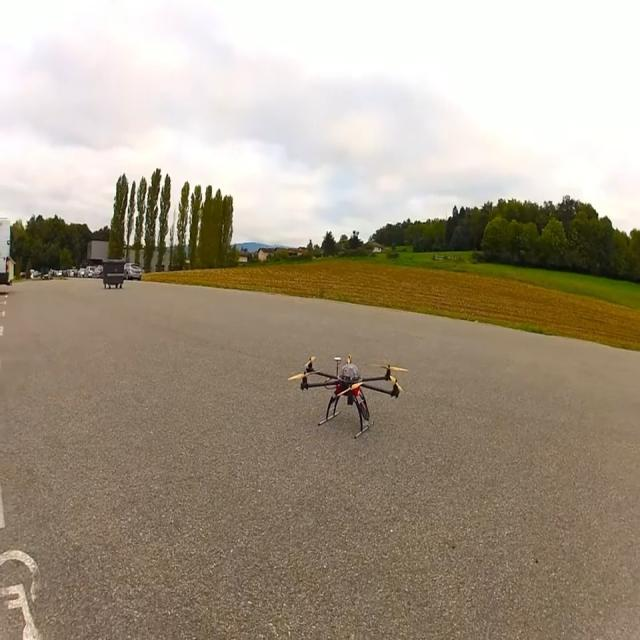drone: (287, 353, 408, 439)
